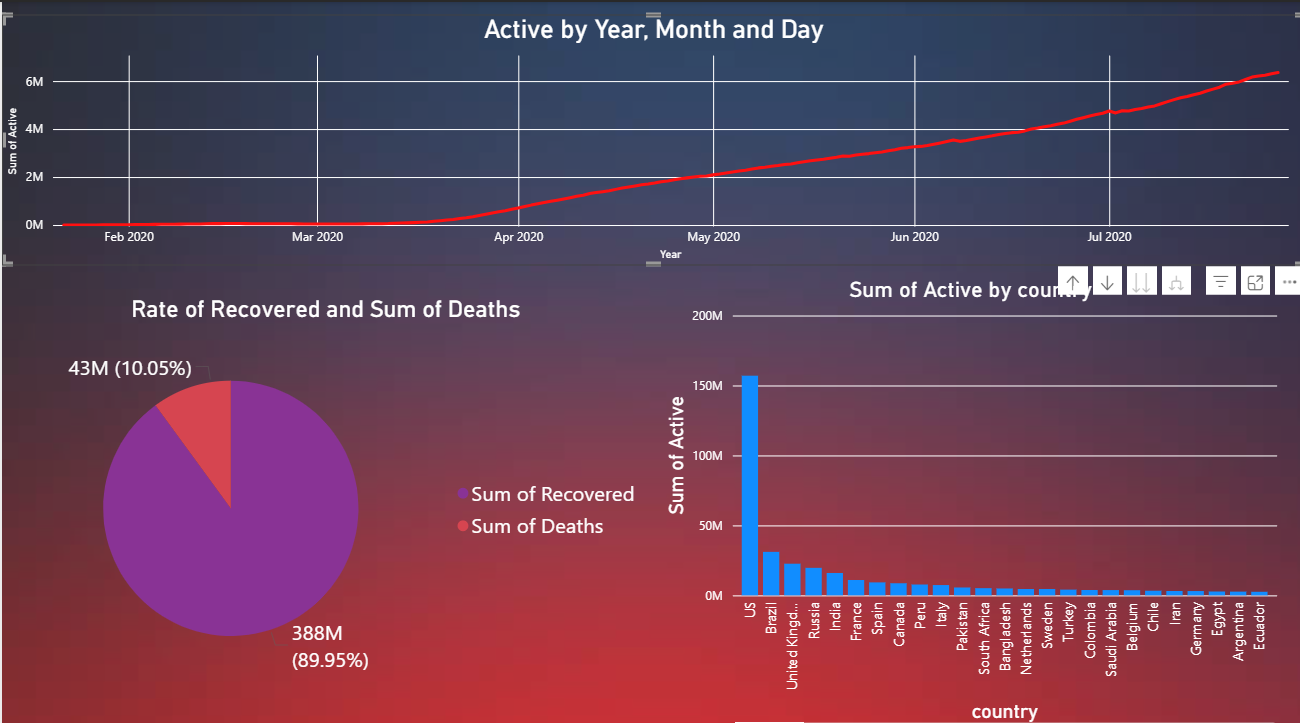

The dashboard page shown, as its layout file describes it:
{"tool":"powerbi","page":{"name":"Page 1","canvas":[1280,720],"ordinal":0},"visuals":[{"type":"lineChart","title":"Active by Year, Month and Day","fields":{"Y":["Sum(covid.Active)"],"Category":["covid.Date.Variation.Date Hierarchy.Year","covid.Date.Variation.Date Hierarchy.Month","covid.Date.Variation.Date Hierarchy.Day"]},"box":[0,12.3,1279.8,246.6],"z":0},{"type":"clusteredColumnChart","fields":{"Category":["covid.country"],"Y":["Sum(covid.Active)"]},"box":[645.4,269.9,611,450.3],"z":1000},{"type":"pieChart","title":"Rate of Recovered and Sum of Deaths","fields":{"Y":["Sum(covid.Recovered)","Sum(covid.Deaths)"]},"box":[0,287.1,635.6,393.9],"z":2000}]}

Visuals, with their boxes in screenshot pixels (x1, y1, x2, y2), scaled from the page's 1280x720 canvas onto the 1300x723 screenshot:
"Active by Year, Month and Day" lineChart: (0, 12, 1299, 260)
clusteredColumnChart - covid.country x Sum(covid.Active): (655, 271, 1276, 722)
"Rate of Recovered and Sum of Deaths" pieChart: (0, 288, 646, 684)
